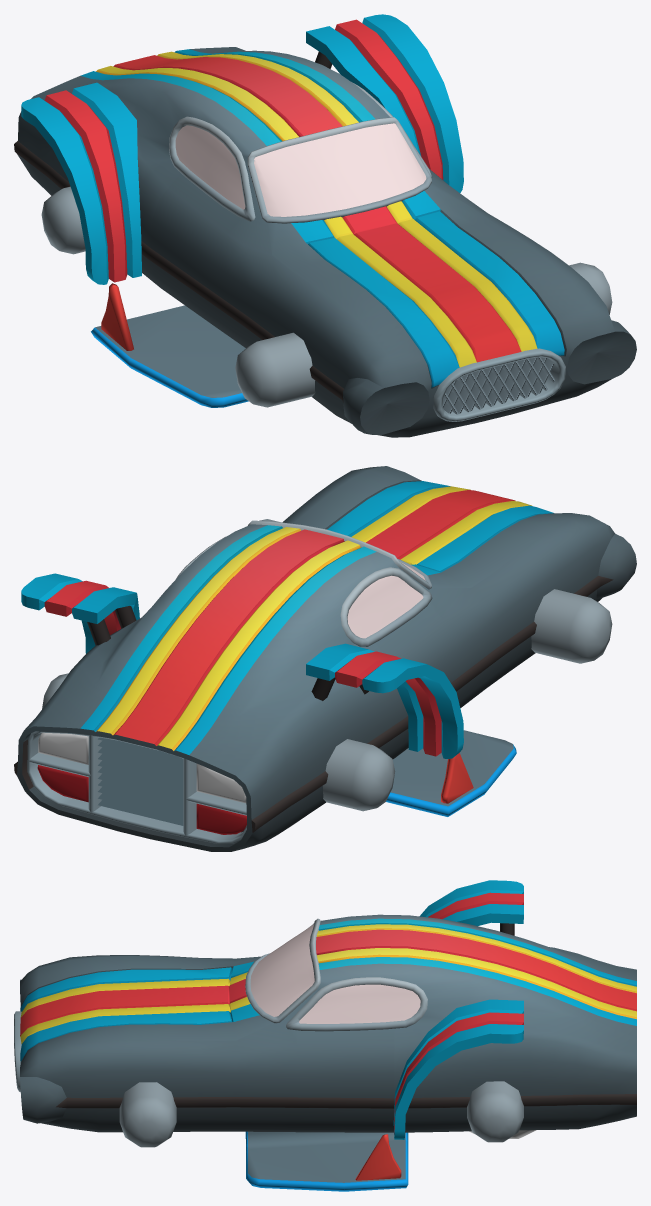
Rendered from Car_09.fbx.
3 renders of one model, top to bottom at view 1: azimuth 30°, elevation 25°; view 2: azimuth 150°, elevation 25°; view 3: azimuth 270°, elevation 25°, orthographic. The views are drawn at different scales.
Visible parts, largest first — view 1: Car_09; view 2: Car_09; view 3: Car_09.
Boxes of the visible parts, <box> form: Car_09: <box>14,14,636,437</box>; Car_09: <box>14,466,636,851</box>; Car_09: <box>14,880,636,1191</box>.
Bounding box in the file's own units: 200 × 343 × 113.
